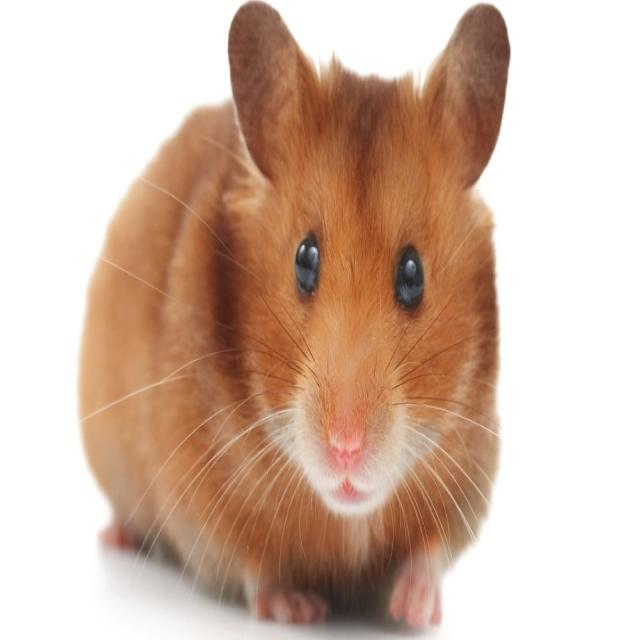hamster: (123, 52, 521, 602)
